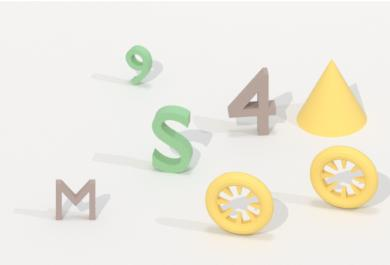0-TamGiac: (294, 55, 373, 139)
0-TronLo: (306, 142, 382, 212), (202, 170, 276, 239)
4: (222, 63, 280, 140)
9: (121, 42, 156, 88)
M: (52, 175, 100, 226)
S: (148, 103, 197, 179)
